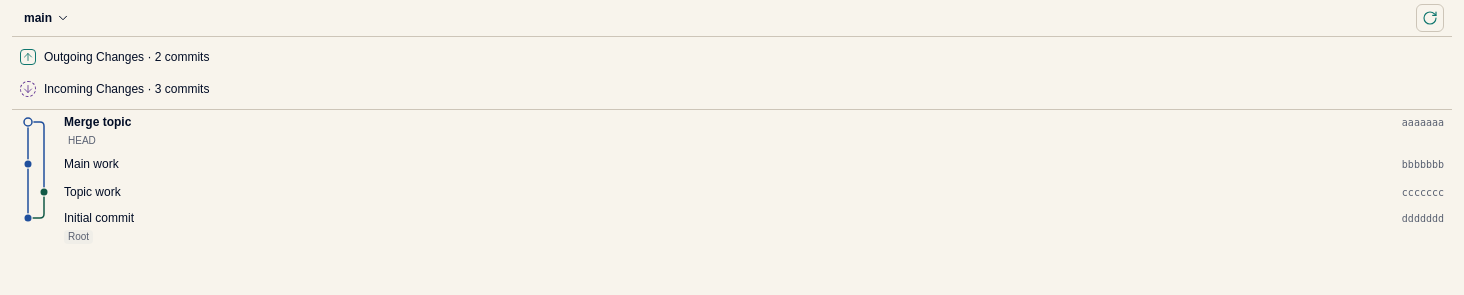
it: late incoming results cannot replace a selected outgoing comparison
Click the button "Incoming Changes · 3 commits" at (127, 89), box [12, 73, 1452, 105]
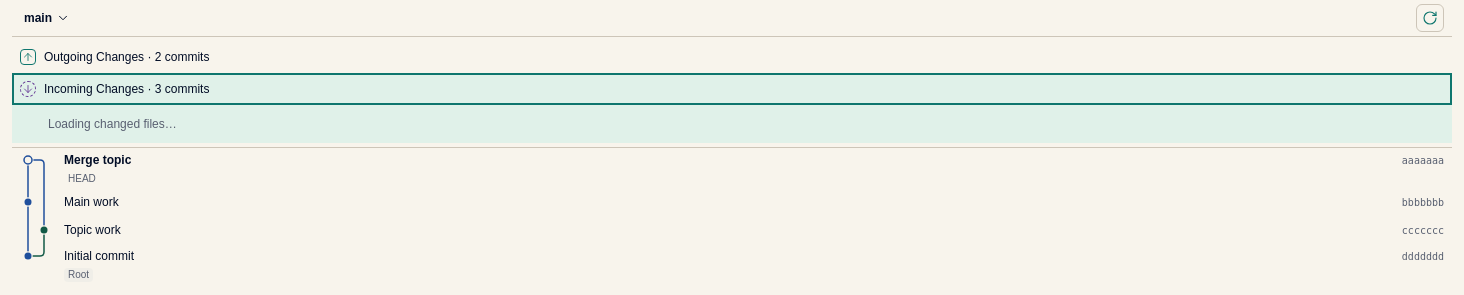
Click the button "Outgoing Changes · 2 commits" at (127, 57), box [12, 41, 1452, 73]
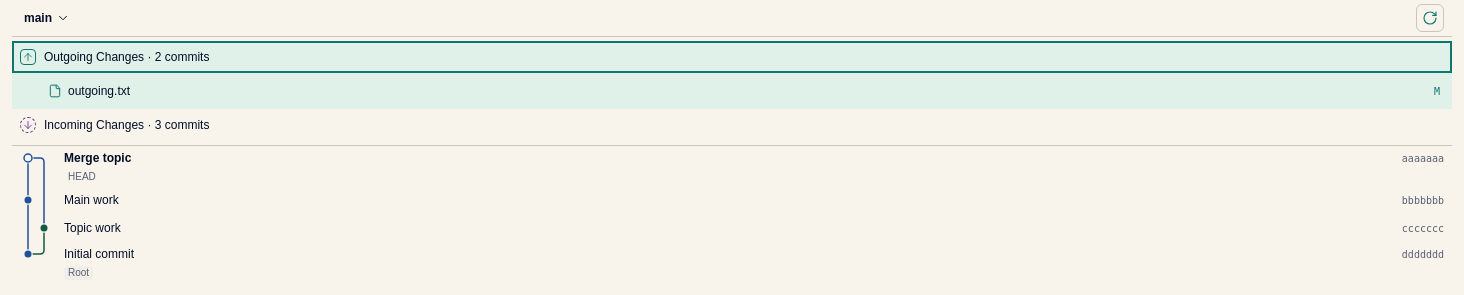
Expected: the text "outgoing.txt" is shown, [68, 84, 130, 98]
